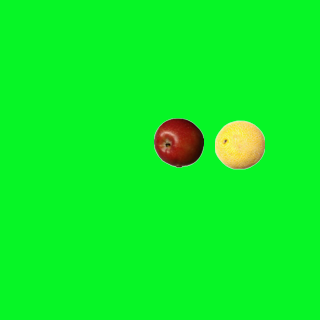Apple Braeburn: (153, 117, 203, 167)
Cantaloupe 1: (214, 119, 264, 169)
